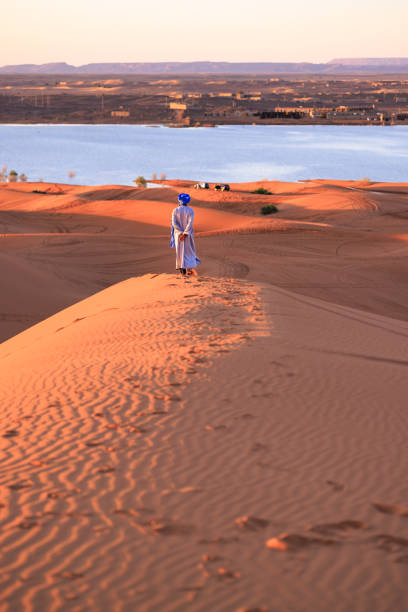human_foot_print: (237, 500, 319, 546), (122, 489, 190, 538), (206, 550, 238, 600), (5, 476, 45, 503), (50, 475, 79, 510), (98, 462, 124, 493), (190, 345, 219, 372), (165, 388, 192, 414), (138, 411, 175, 429), (227, 307, 246, 342), (221, 335, 247, 358), (174, 369, 204, 388)
